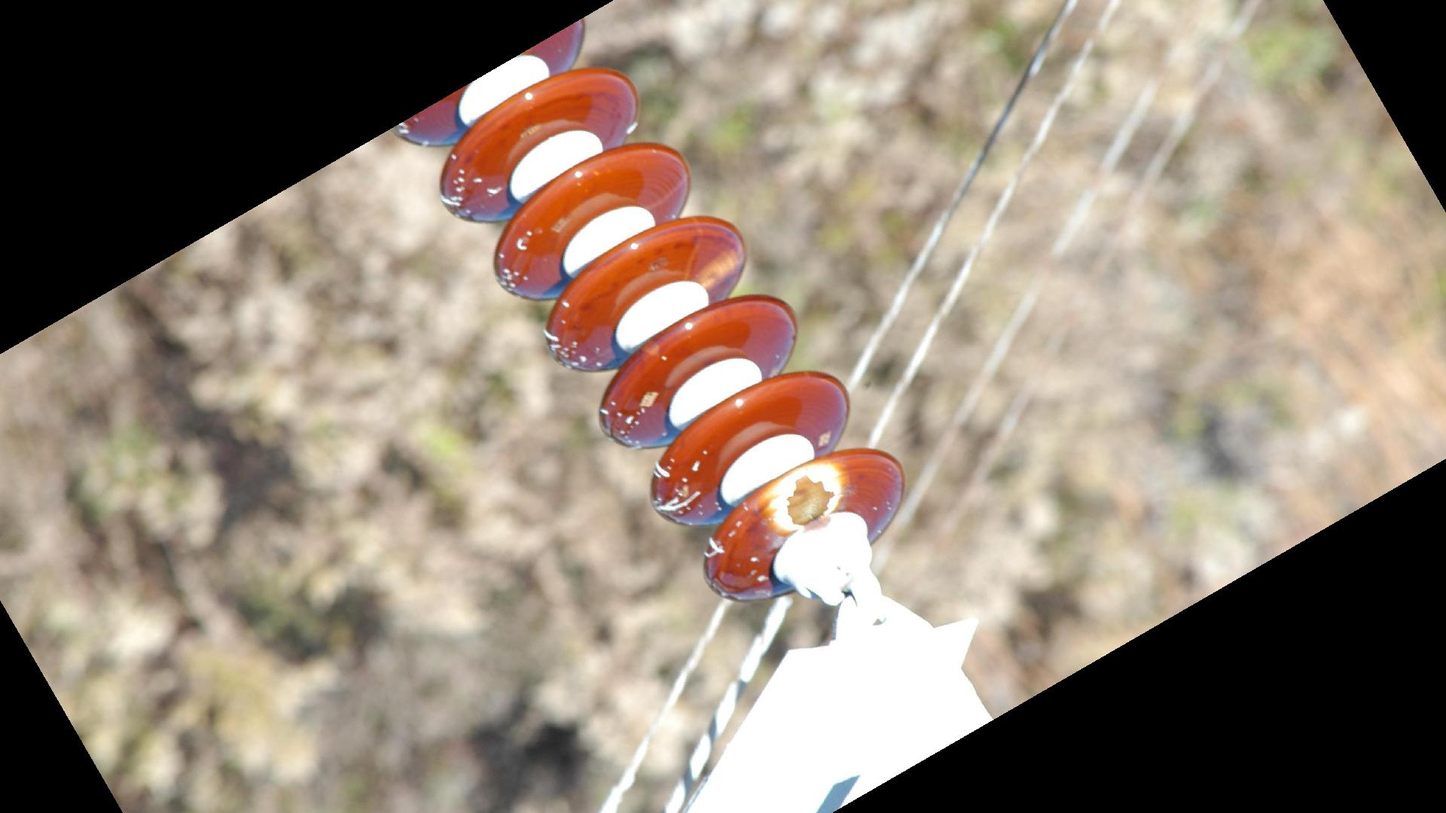insulator: (384, 13, 915, 611)
insulator_flashover: (765, 458, 847, 534), (692, 242, 746, 291)
